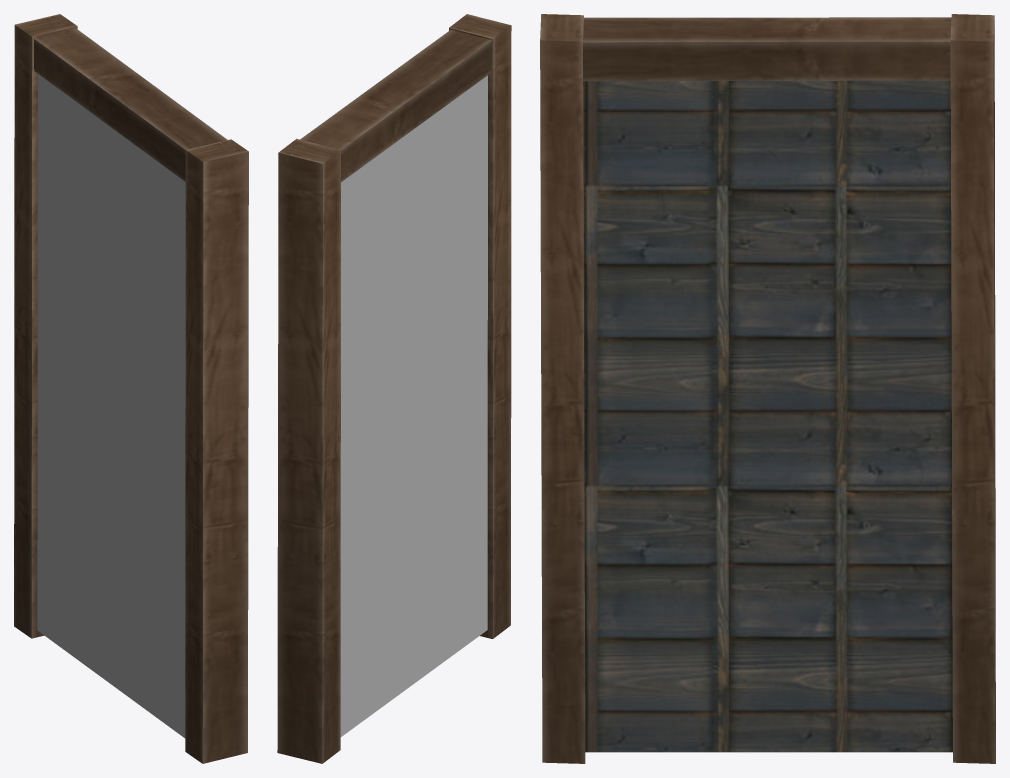
The model's file is ms_h01k_pile1b.fbx.
The picture shows the model from 3 angles, left to right: view 1: azimuth 30°, elevation 25°; view 2: azimuth 150°, elevation 25°; view 3: azimuth 270°, elevation 25°; orthographic projection. The views are drawn at different scales.
Visible parts, largest first — view 1: ms_h01k_pile1b; view 2: ms_h01k_pile1b; view 3: ms_h01k_pile1b.
Boxes of the visible parts, x1=… form: ms_h01k_pile1b: x1=14, y1=14, x2=248, y2=763; ms_h01k_pile1b: x1=277, y1=14, x2=511, y2=763; ms_h01k_pile1b: x1=540, y1=14, x2=995, y2=763.
Bounding box in the file's own units: 31.74 × 403 × 230.
